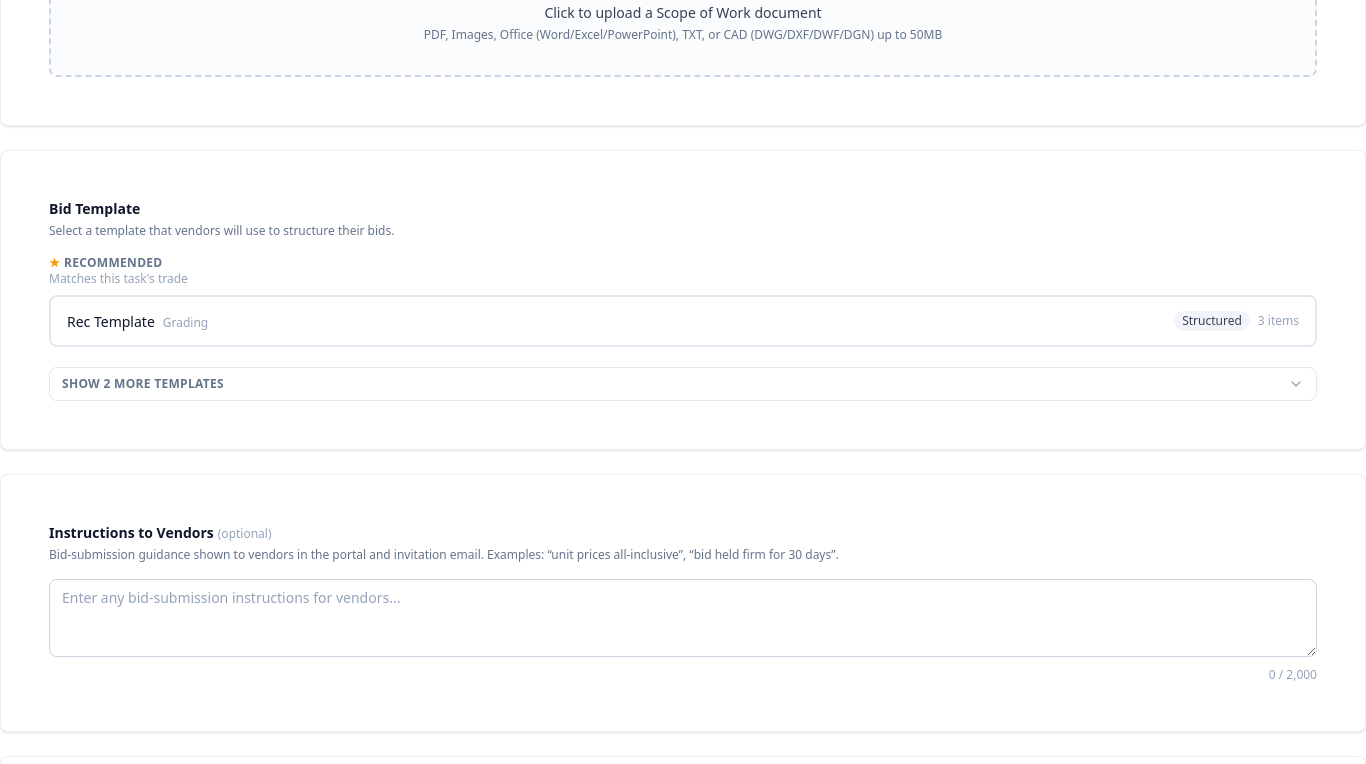
ConfigureStep template groups › reveals both sub-groups with their headings when expanded
The image size is (1366, 764).
(page scrolled)
Click the button "Show 2 more templates". click: (81, 384)
box: [49,367,1317,401]
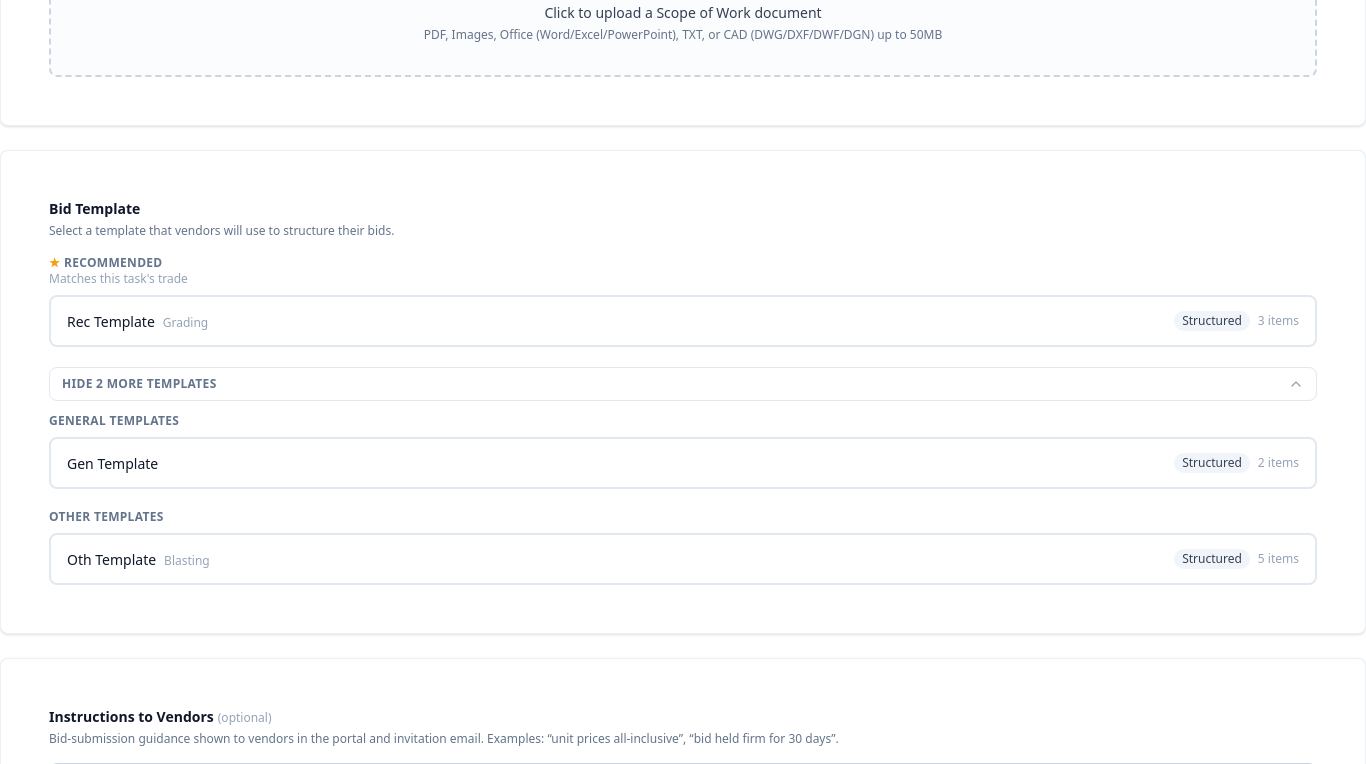
Expected: the heading "General Templates" is shown, [49,412,179,429]
Expected: the heading "Other Templates" is shown, [49,508,164,525]
Expected: the text "Gen Template" is shown, [67,454,158,473]
